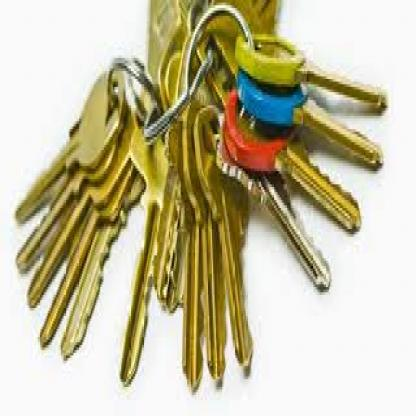key: (14, 0, 387, 392)
